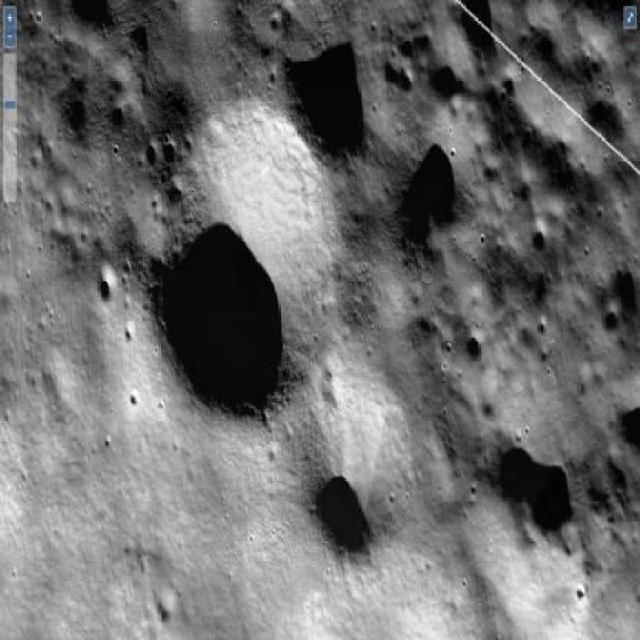crater: (148, 102, 340, 424), (304, 428, 394, 560), (97, 268, 118, 302), (466, 332, 485, 360)
